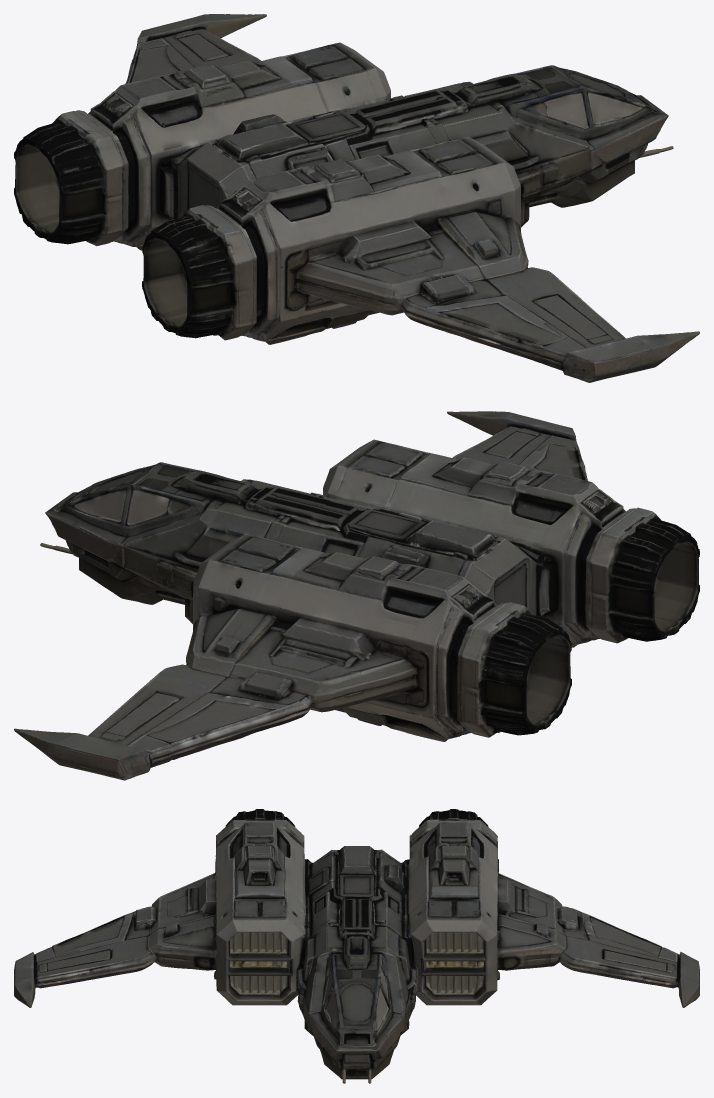
File: futuristic-spacecraft-3dmodel.glb
3 renders of one model, top to bottom at view 1: azimuth 30°, elevation 25°; view 2: azimuth 150°, elevation 25°; view 3: azimuth 270°, elevation 25°, orthographic. The views are drawn at different scales.
Visible parts, largest first — view 1: tripo_node_b04adb05-1221-4852-99f7-880985b71b78; view 2: tripo_node_b04adb05-1221-4852-99f7-880985b71b78; view 3: tripo_node_b04adb05-1221-4852-99f7-880985b71b78.
Part boxes in pixels (x1,y1,x2,y2): tripo_node_b04adb05-1221-4852-99f7-880985b71b78: [14, 14, 699, 382]; tripo_node_b04adb05-1221-4852-99f7-880985b71b78: [14, 411, 699, 780]; tripo_node_b04adb05-1221-4852-99f7-880985b71b78: [14, 809, 699, 1083].
Size of the model in its own units: 0.7157 by 0.187 by 1.
Materials: 1 (1 with a texture image).
